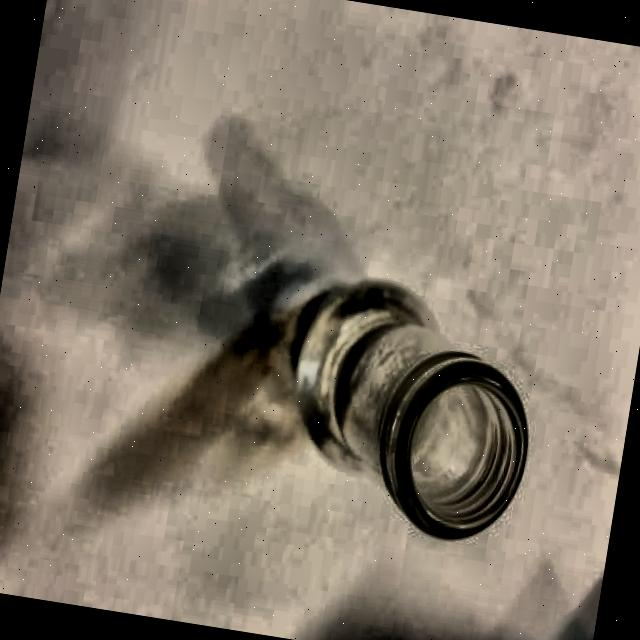glass: (290, 272, 552, 554)
